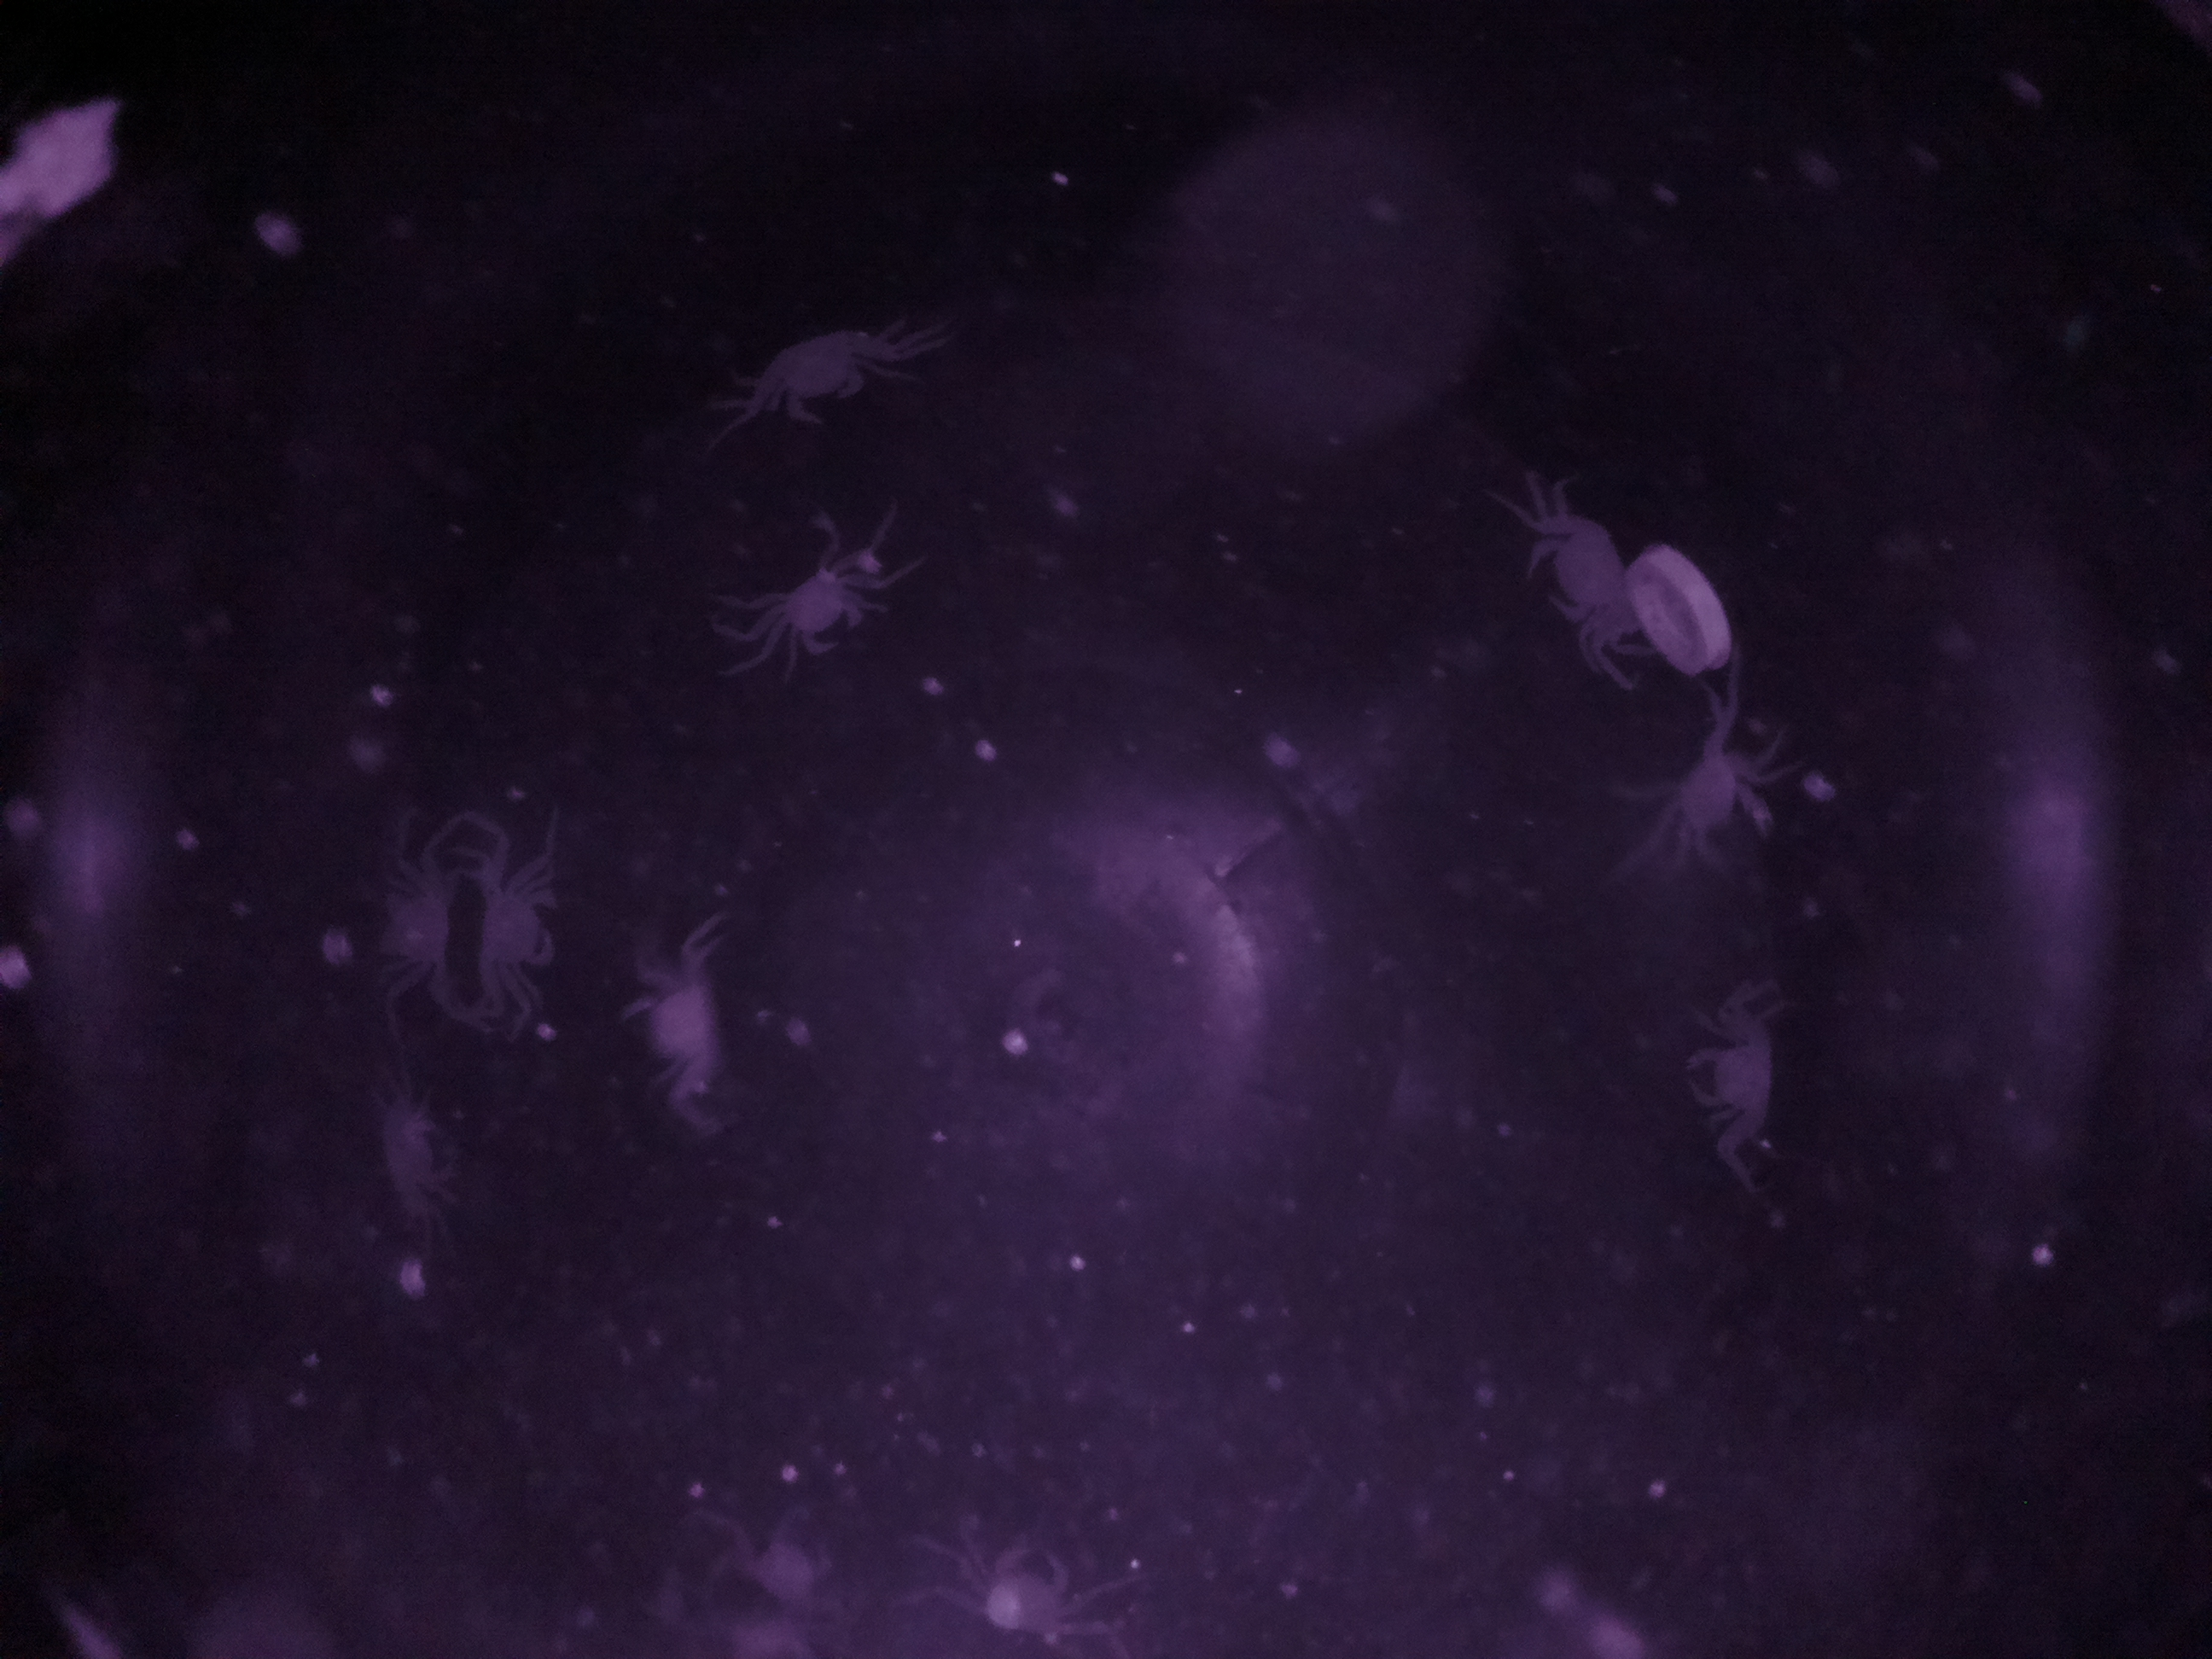Crab: (745, 305, 895, 451), (758, 532, 885, 683), (469, 823, 577, 1000)
